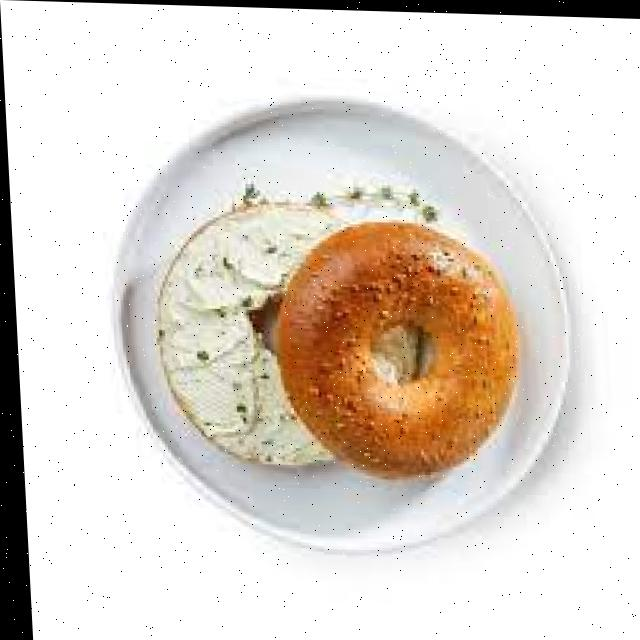Bagel: (154, 198, 416, 462), (269, 220, 514, 475)
